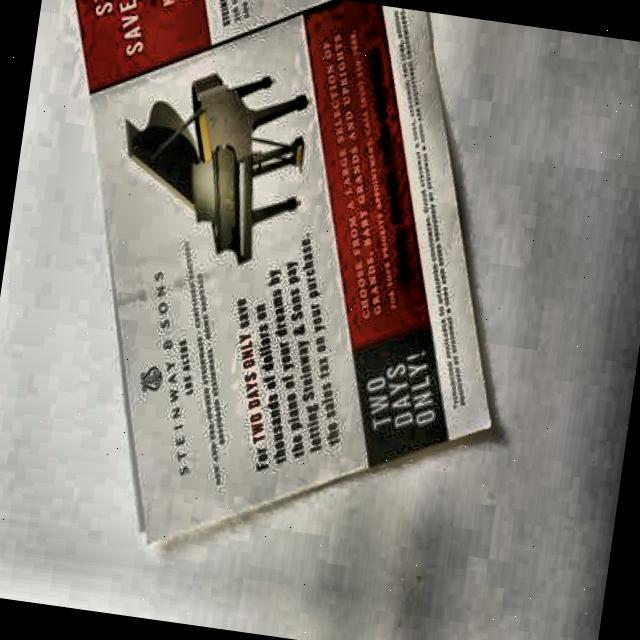paper: (0, 0, 545, 580)
